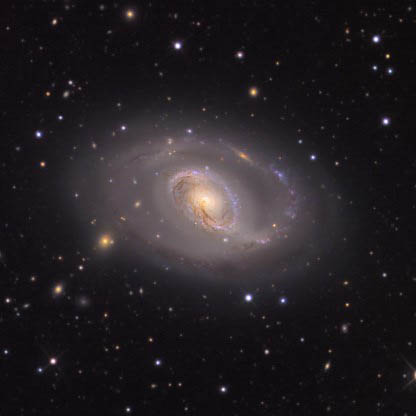Messier 96: (61, 110, 361, 306)
